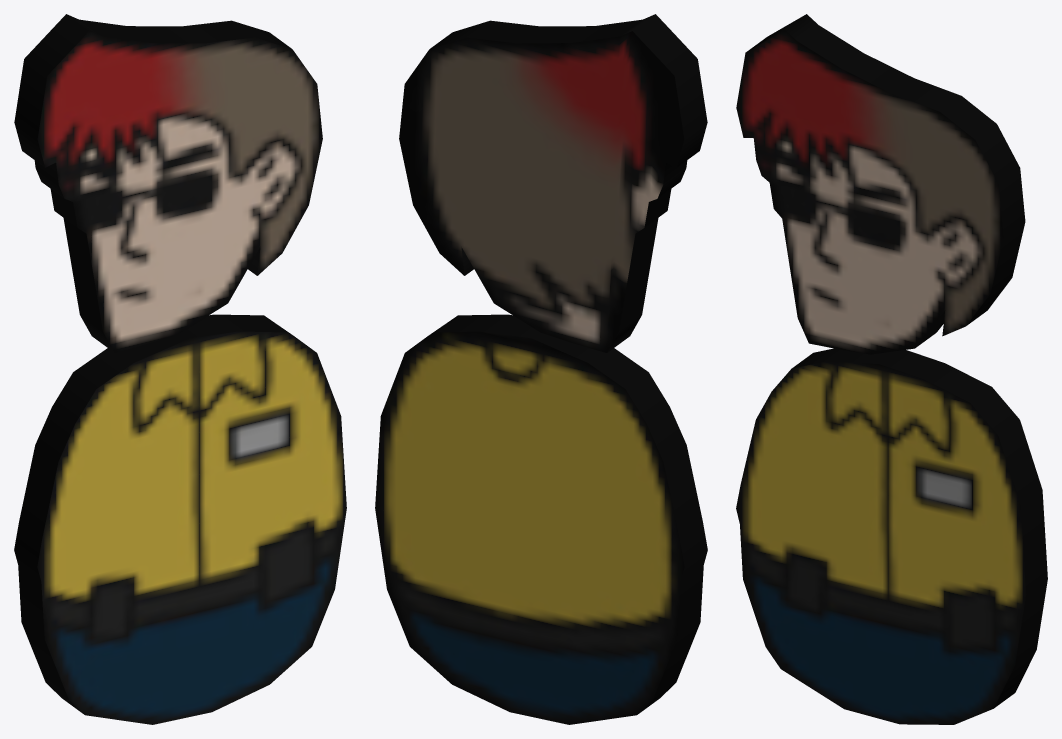
Rendered from Teppista_Uomo.fbx.
3 renders of one model, left to right at view 1: azimuth 30°, elevation 25°; view 2: azimuth 150°, elevation 25°; view 3: azimuth 330°, elevation 25°, orthographic. The views are drawn at different scales.
Parts seen in each view (by area): view 1: polySurface26; view 2: polySurface26; view 3: polySurface26.
Part boxes in pixels (box(x1,y1,x2,y2)): polySurface26: box(14, 14, 346, 724); polySurface26: box(375, 14, 707, 724); polySurface26: box(736, 14, 1047, 724).
Size of the model in its own units: 0.2986 by 0.6554 by 0.0388.
